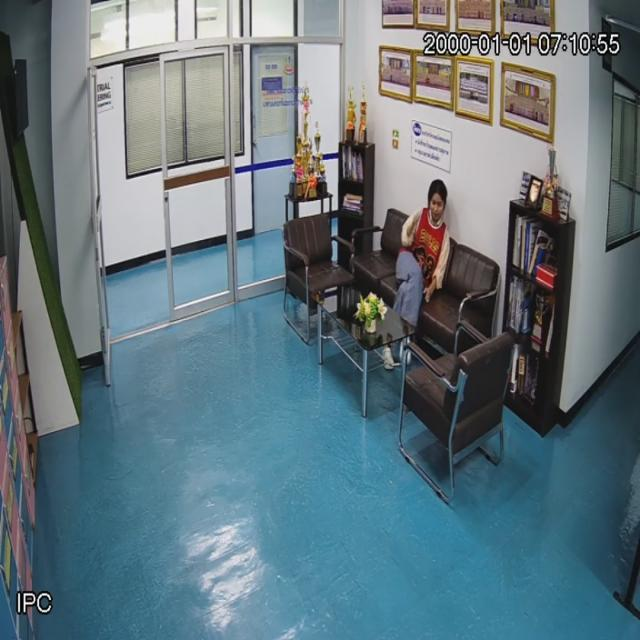normal: (393, 170, 454, 378)
